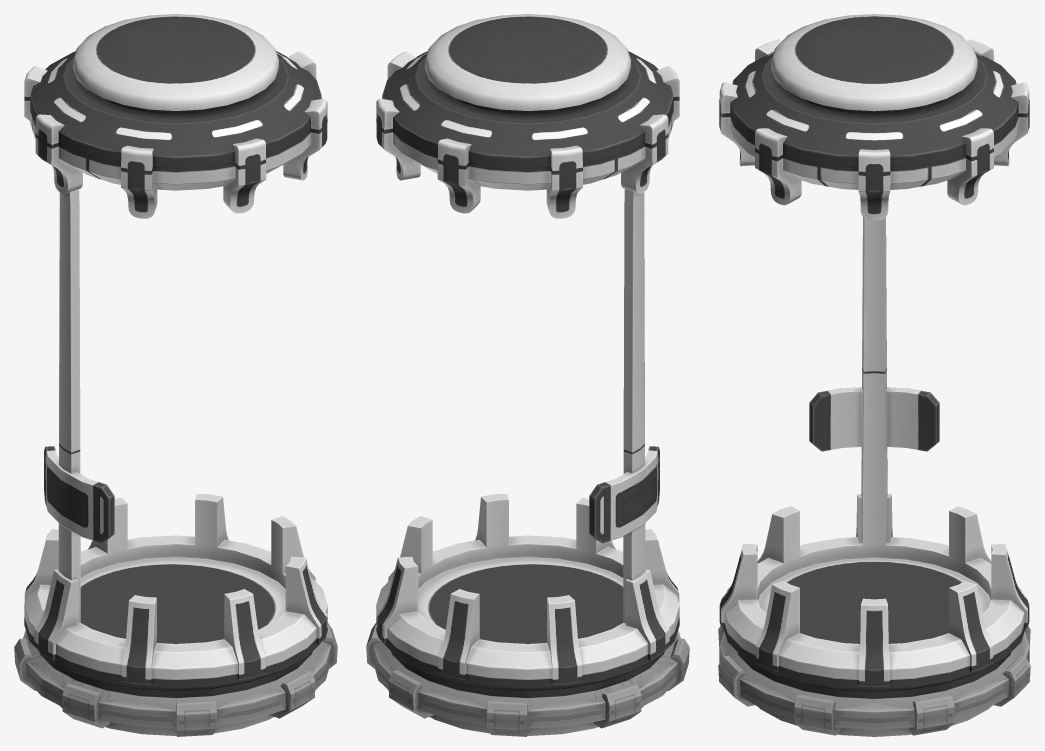
File: SM_LabCapsule10_Capsule.FBX
3 renders of one model, left to right at view 1: azimuth 30°, elevation 25°; view 2: azimuth 150°, elevation 25°; view 3: azimuth 270°, elevation 25°, orthographic.
Parts seen in each view (by area): view 1: SM_LabCapsule10_Capsule; view 2: SM_LabCapsule10_Capsule; view 3: SM_LabCapsule10_Capsule.
Part boxes in pixels (x1,y1,x2,y2): SM_LabCapsule10_Capsule: (14, 14, 337, 736); SM_LabCapsule10_Capsule: (366, 14, 689, 736); SM_LabCapsule10_Capsule: (718, 14, 1030, 736).
Size of what is drawn, in the model's own units: 139 by 139 by 311.
